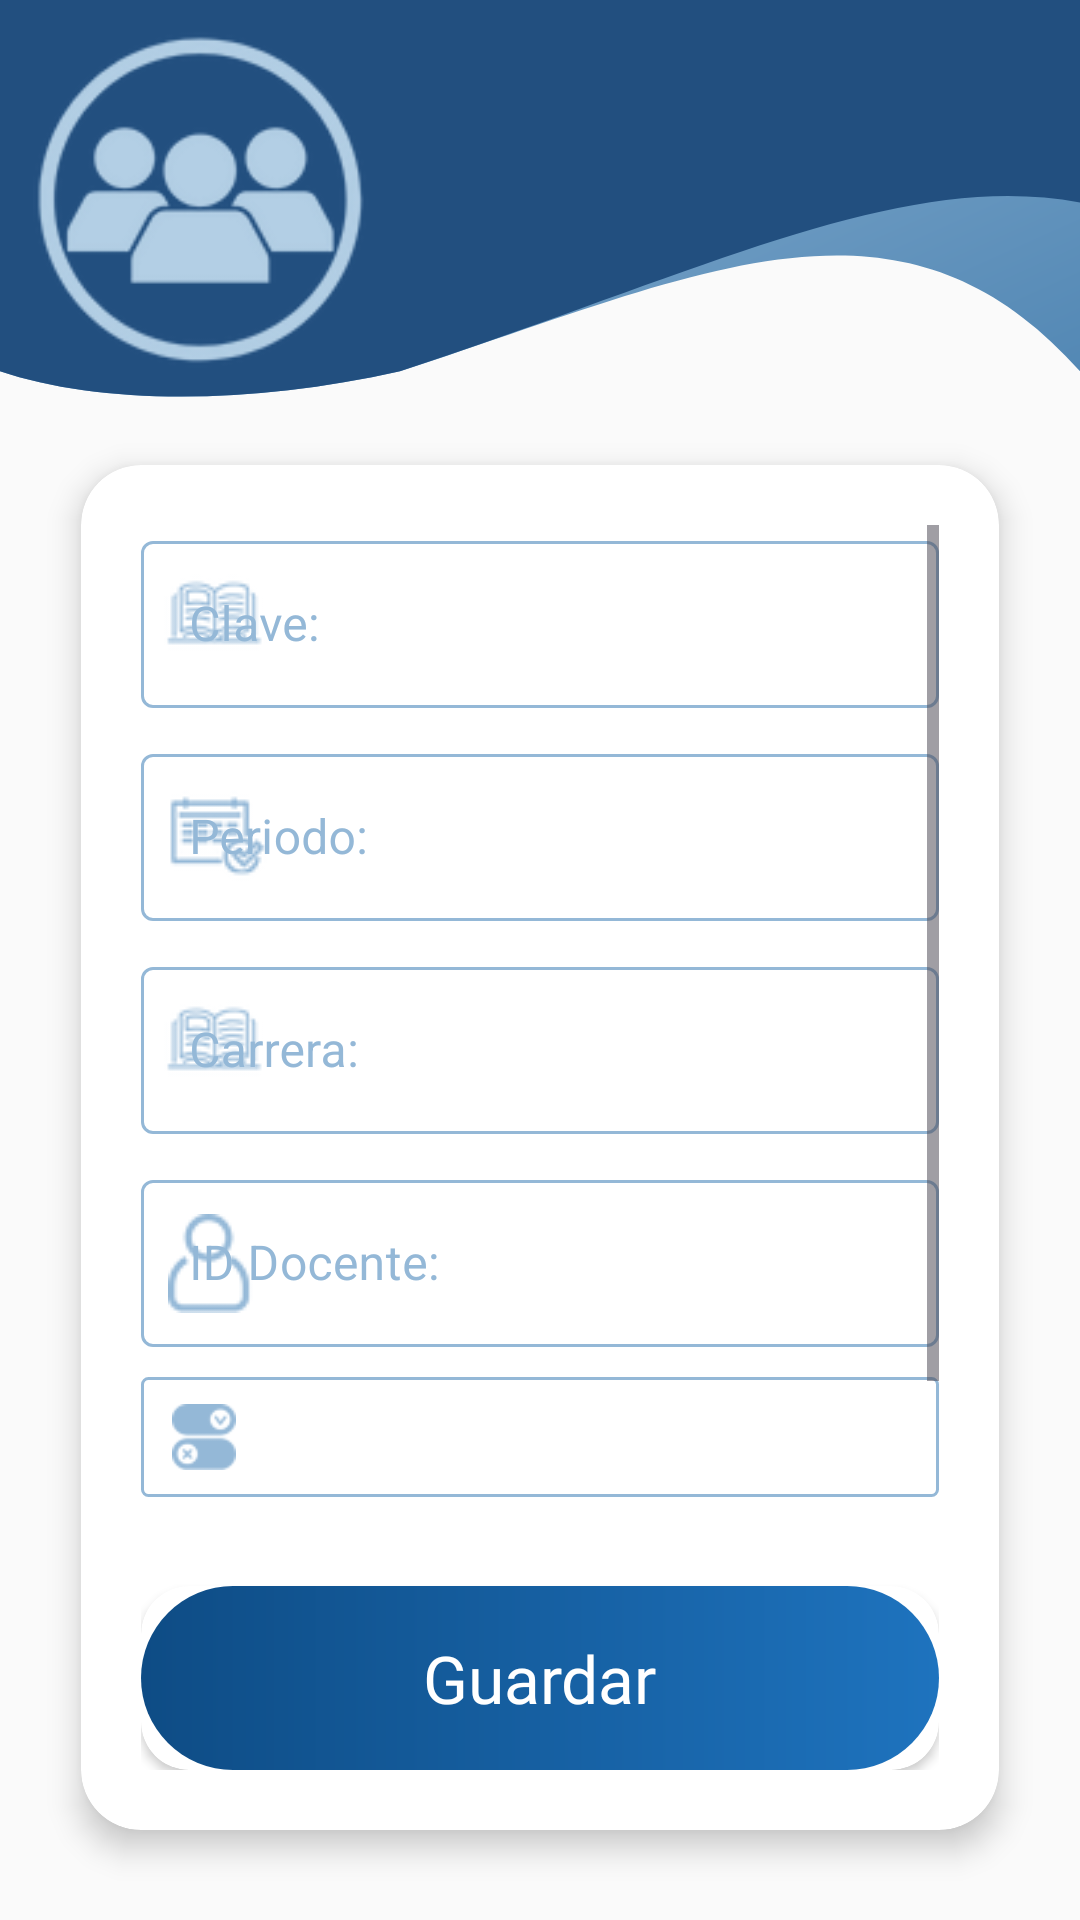

Named icons in this screenshot (1080x1920) and their bounding boxes, bbox=[x1, y1, x2, y2]:
docente perfil estado: bbox=[172, 1404, 236, 1470]
grupos: bbox=[38, 37, 362, 362]
